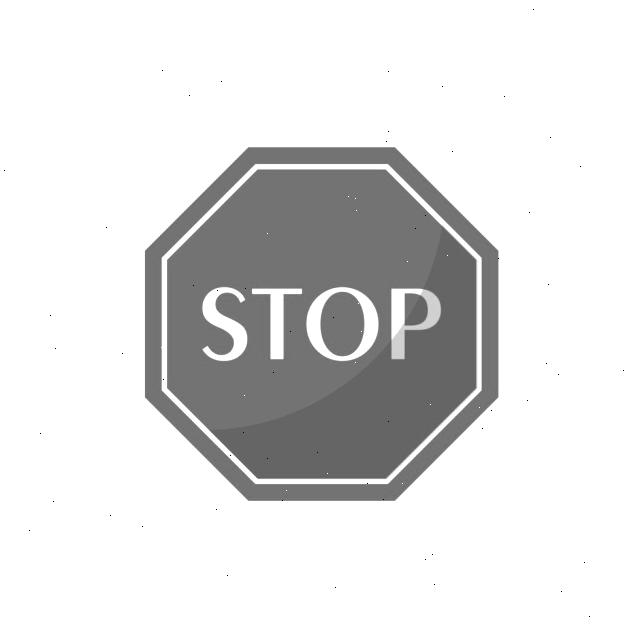Stop-sign: (113, 126, 523, 510)
